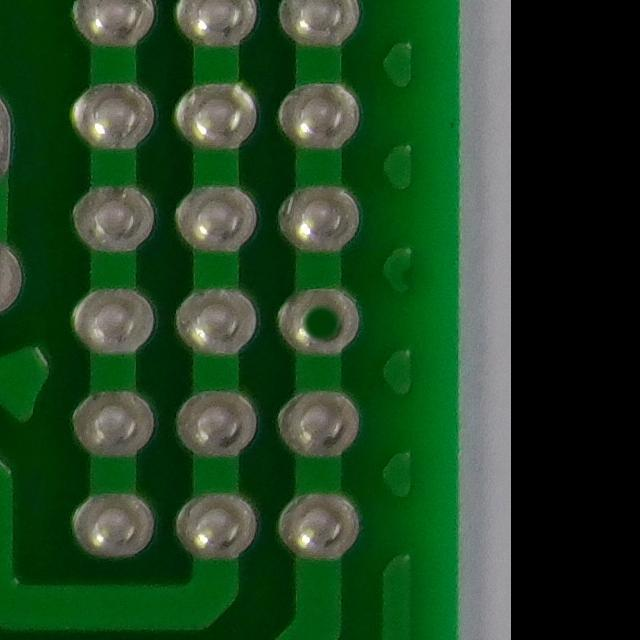missing_hole: (285, 280, 356, 360)
